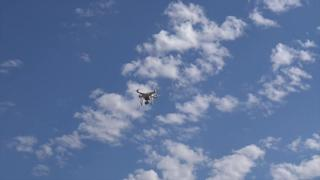UAV: (135, 89, 161, 106)
